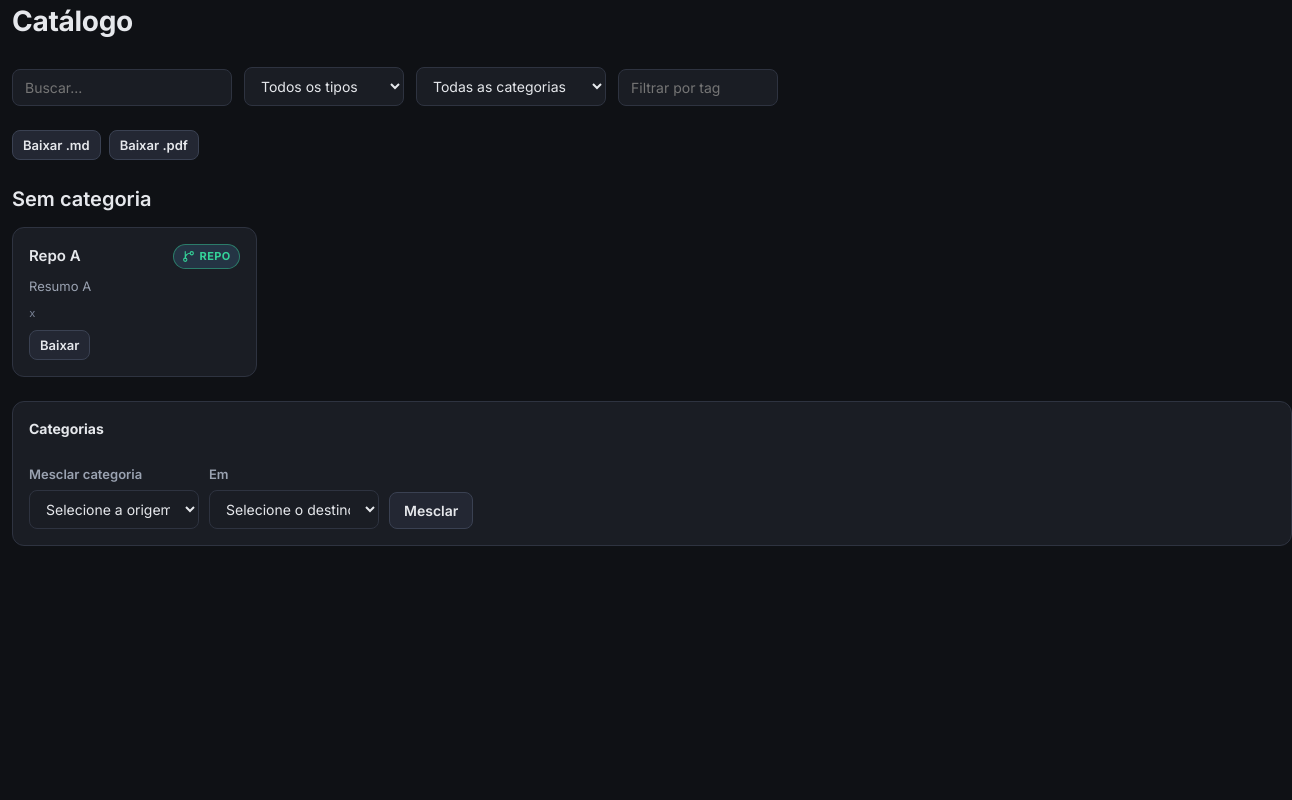
Test: CatalogPage › updates the card in place after a repo download, without refetching the list
The width and height of the screenshot is (1292, 800).
Click the button "Baixar" at x=60, y=345, box x1=29 y1=330 x2=90 y2=360
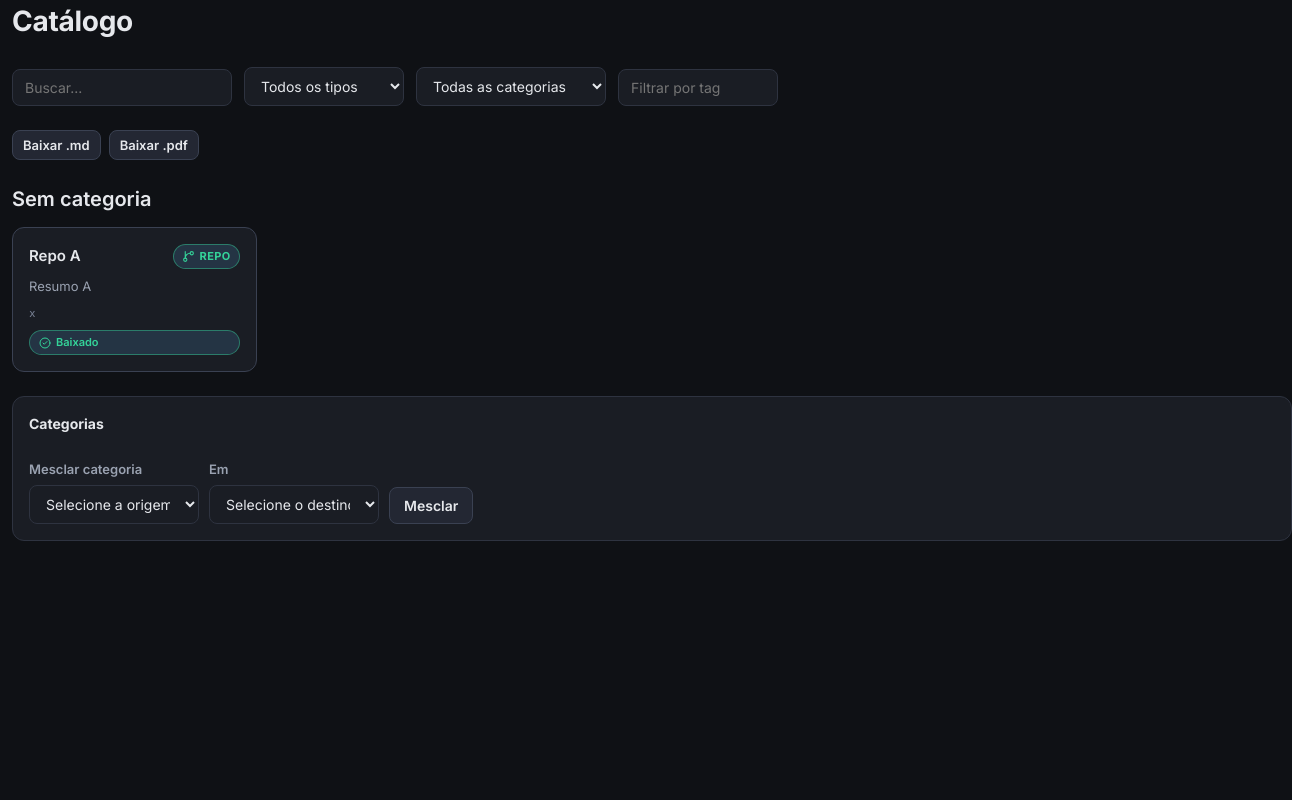
expect the text "Baixado" is shown: met, box x1=29 y1=330 x2=240 y2=355
